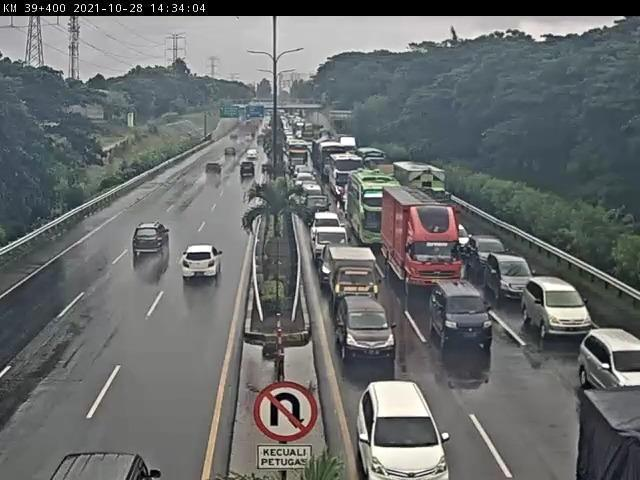bus: (349, 172, 402, 248), (323, 152, 363, 194), (287, 140, 309, 170)
car: (358, 374, 449, 480), (566, 319, 640, 389), (330, 294, 398, 366), (430, 280, 497, 352), (522, 274, 593, 340), (323, 247, 385, 305), (489, 256, 534, 303), (182, 244, 225, 287), (311, 223, 352, 265), (467, 236, 509, 271), (133, 224, 174, 258), (299, 195, 331, 225), (448, 222, 471, 253), (297, 179, 321, 200), (313, 209, 341, 227), (239, 161, 256, 181), (207, 161, 224, 178), (295, 168, 313, 183), (221, 150, 238, 165), (245, 150, 262, 165)
truck: (382, 186, 461, 296), (393, 160, 457, 214), (319, 143, 348, 179), (355, 149, 384, 170)
